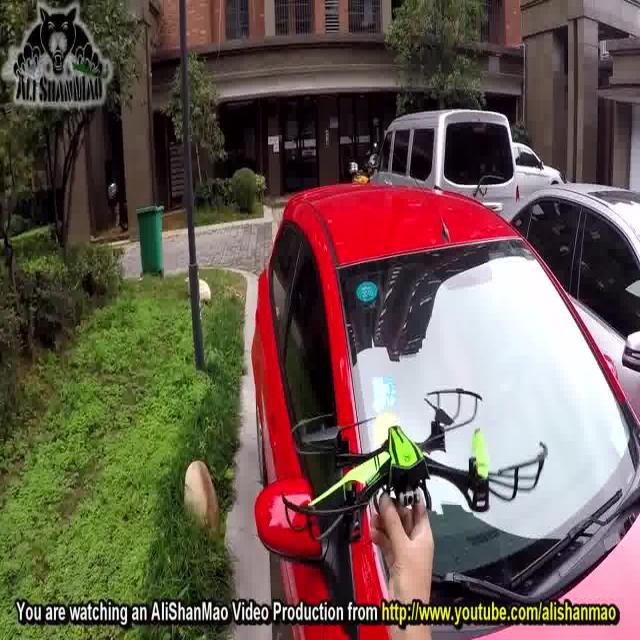Drone_FW: (283, 384, 557, 543)
